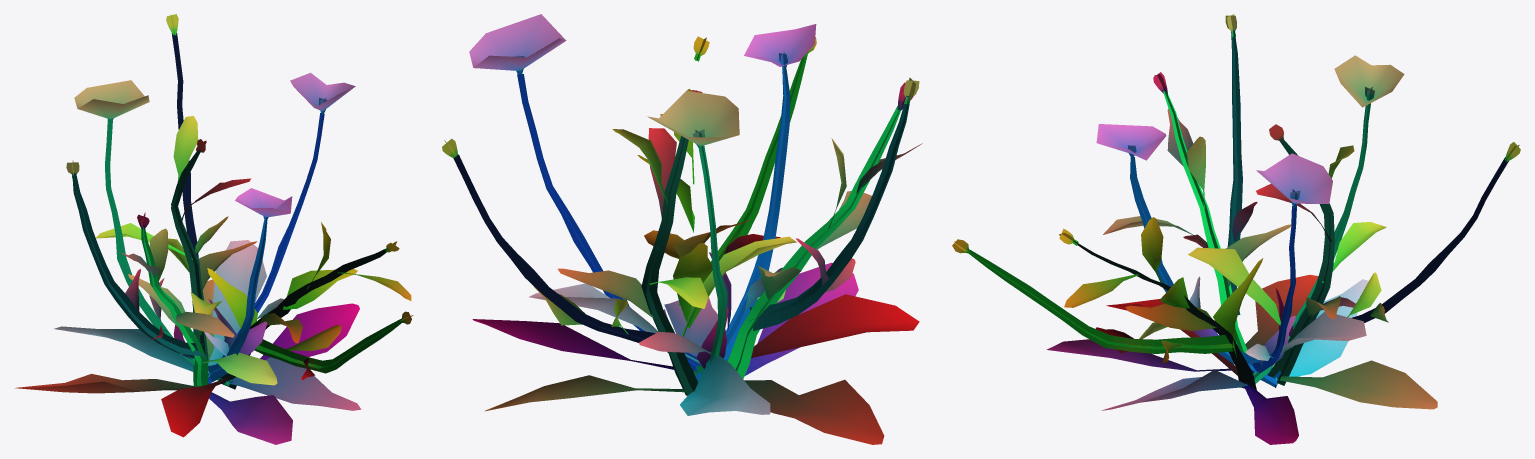
Rendered from Field_Poppy_vmcobd0ja_Mid_vmcobd0ja_VarD_LOD1.fbx.
The picture shows the model from 3 angles, left to right: view 1: azimuth 30°, elevation 25°; view 2: azimuth 150°, elevation 25°; view 3: azimuth 270°, elevation 25°; orthographic projection. The views are drawn at different scales.
Parts seen in each view (by area): view 1: _8au5_VarD_LOD2; view 2: _8au5_VarD_LOD2; view 3: _8au5_VarD_LOD2.
Part boxes in pixels (x1=…): _8au5_VarD_LOD2: x1=15, y1=14, x2=413, y2=444; _8au5_VarD_LOD2: x1=442, y1=14, x2=922, y2=444; _8au5_VarD_LOD2: x1=952, y1=14, x2=1520, y2=444.
Size of the model in its own units: 55.17 by 43.63 by 76.11.
